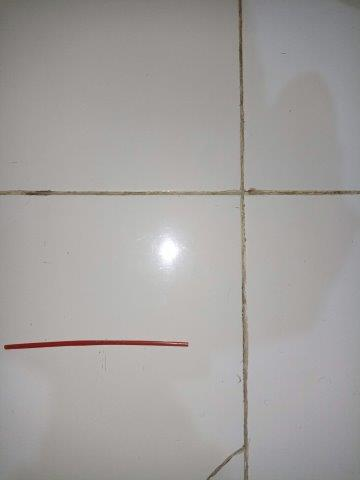sedotan: (4, 339, 188, 349)
